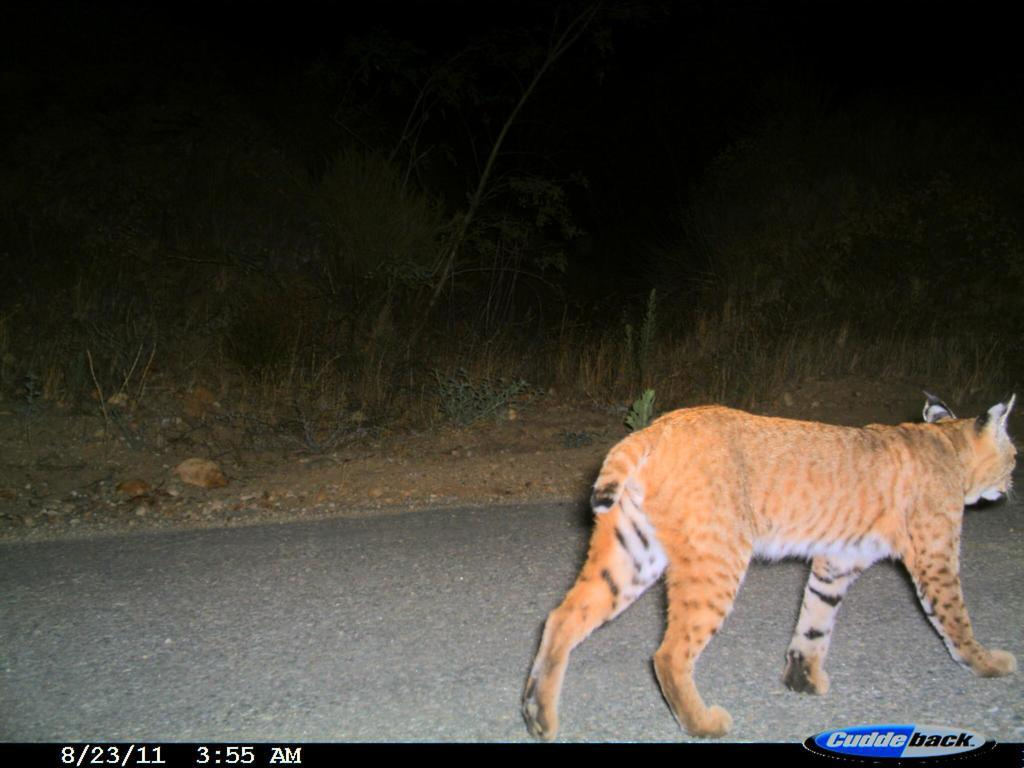bobcat: (523, 385, 1022, 743)
